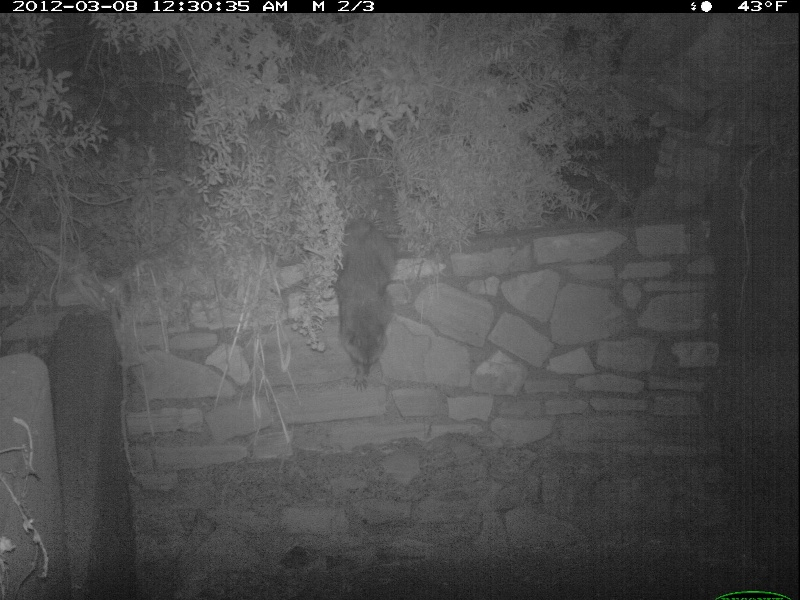raccoon: (334, 219, 398, 389)
